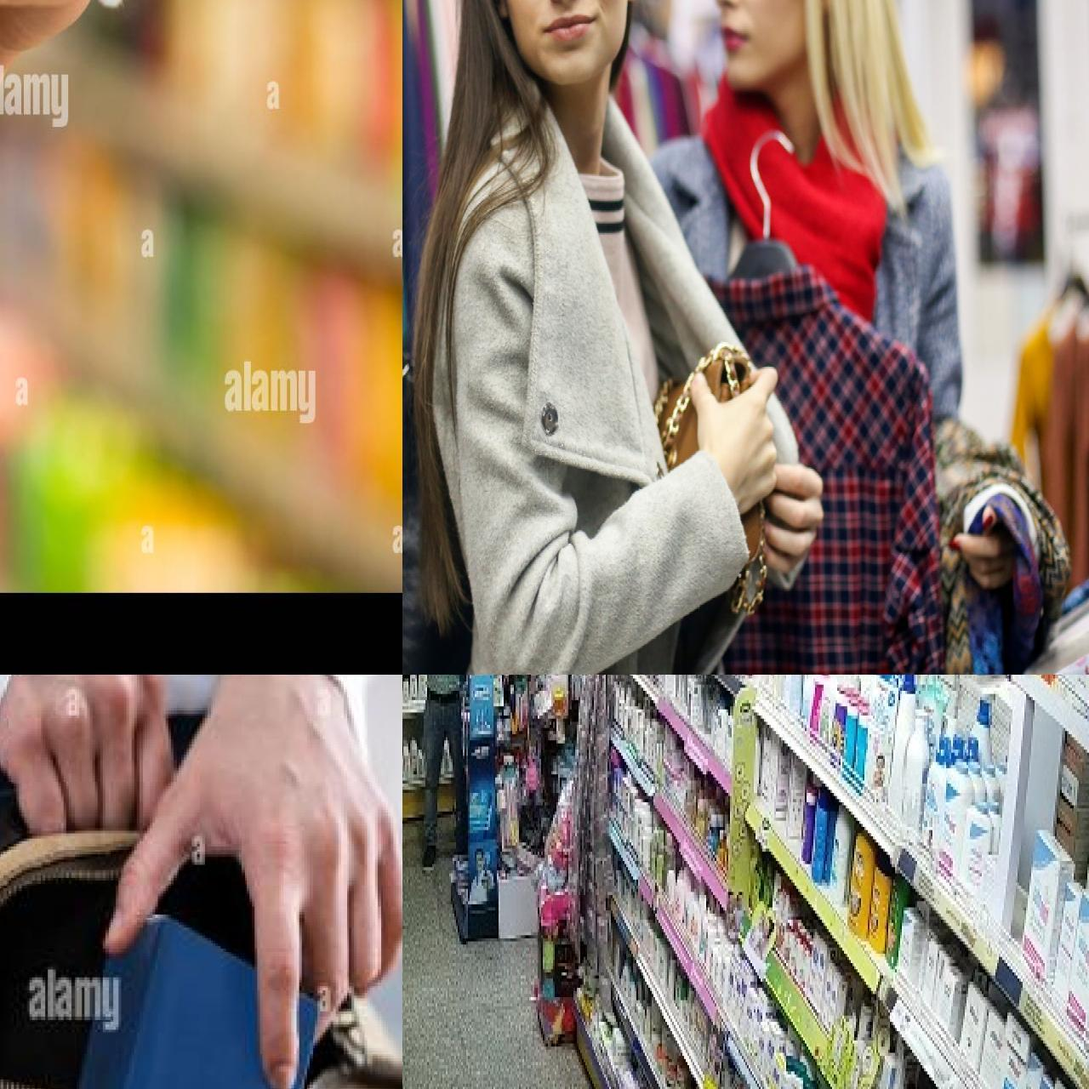shoplifting: (413, 123, 1018, 672)
